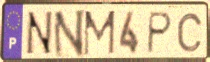4: (118, 10, 141, 56)
C: (176, 12, 204, 54)
M: (82, 9, 117, 58)
N: (52, 8, 88, 59), (23, 10, 54, 58)
P: (145, 11, 174, 56)
